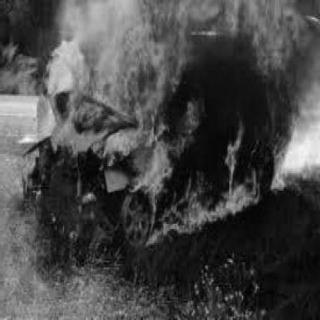Fire: (34, 4, 318, 244)
